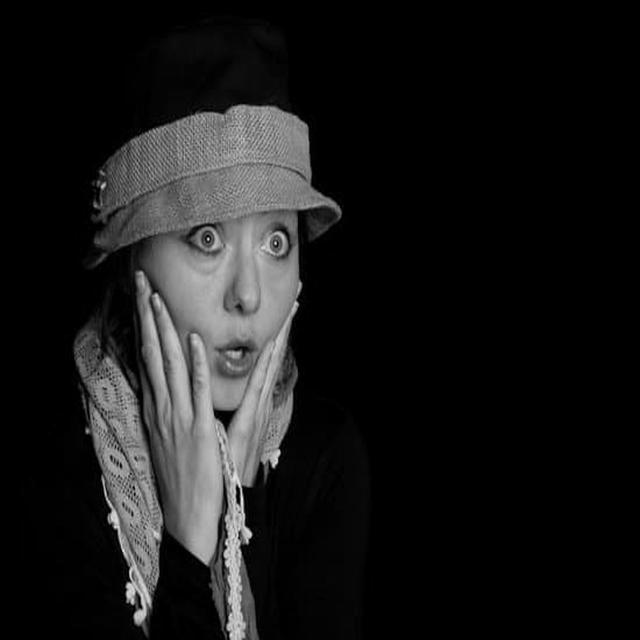Fear: (157, 203, 300, 409)
